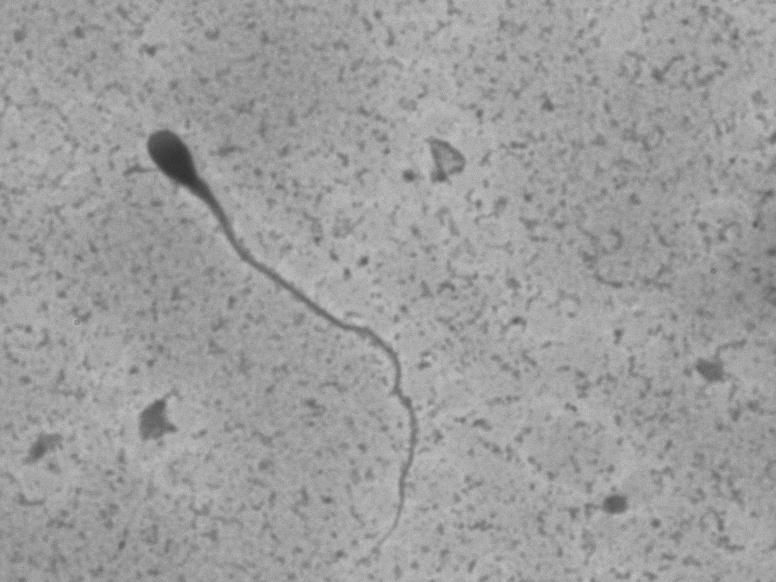Abnormal: (137, 86, 459, 556)
